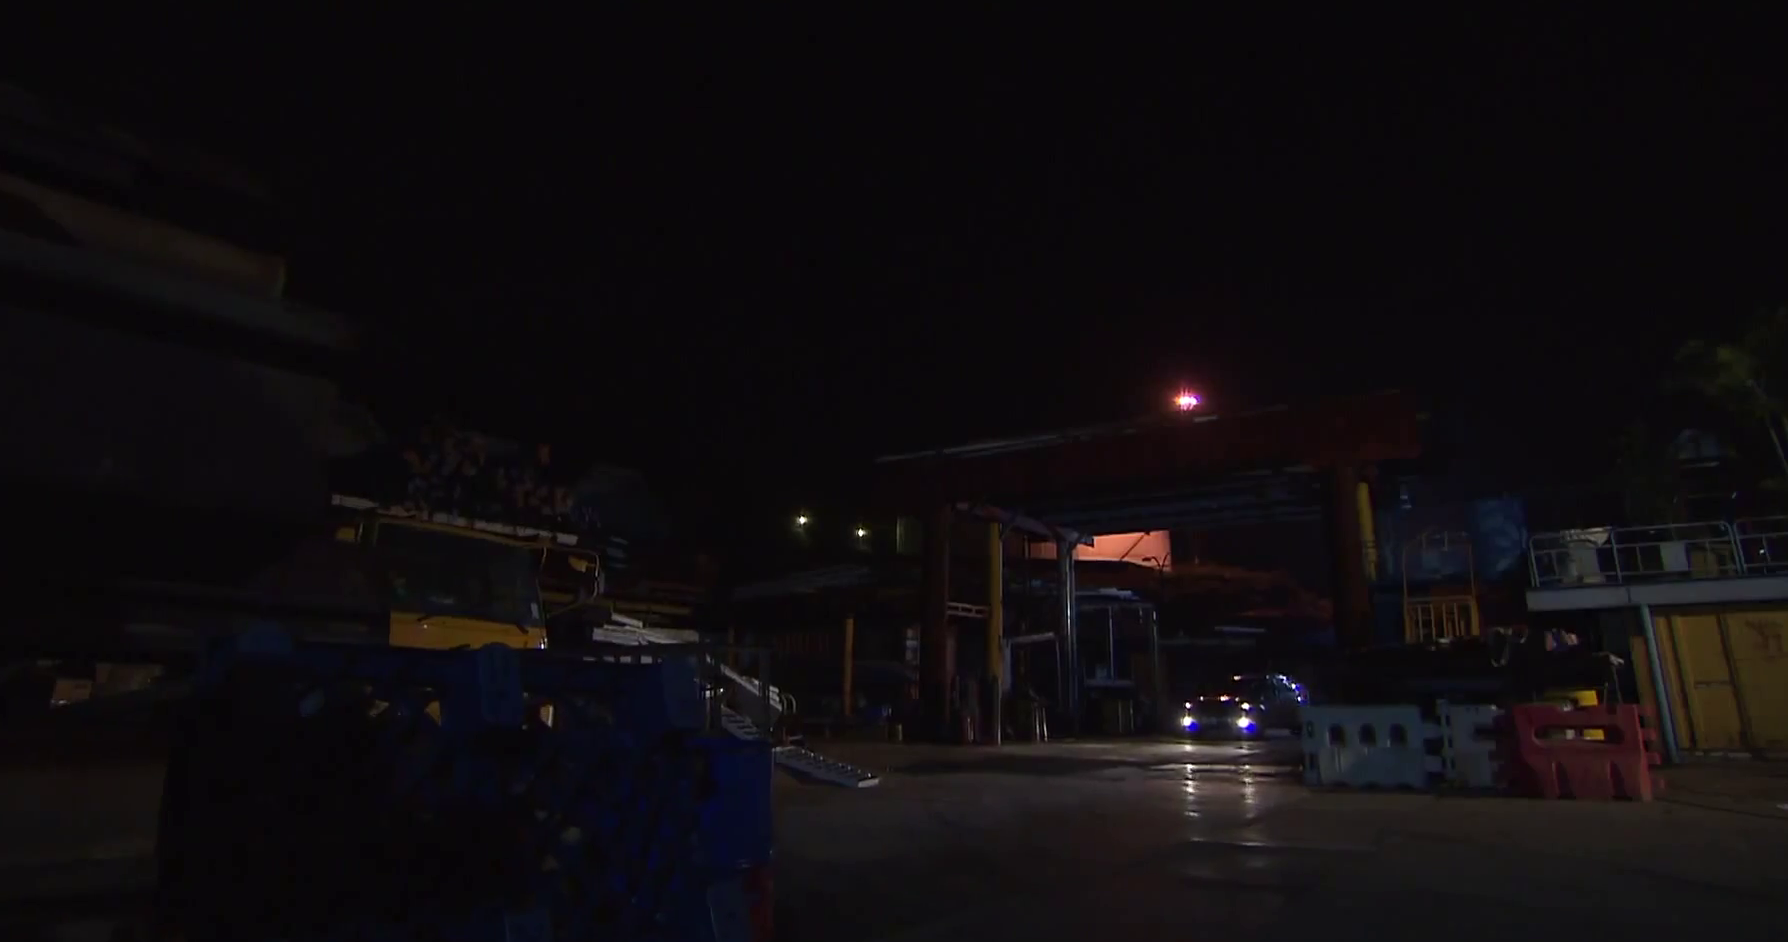car: (1173, 665, 1307, 751)
